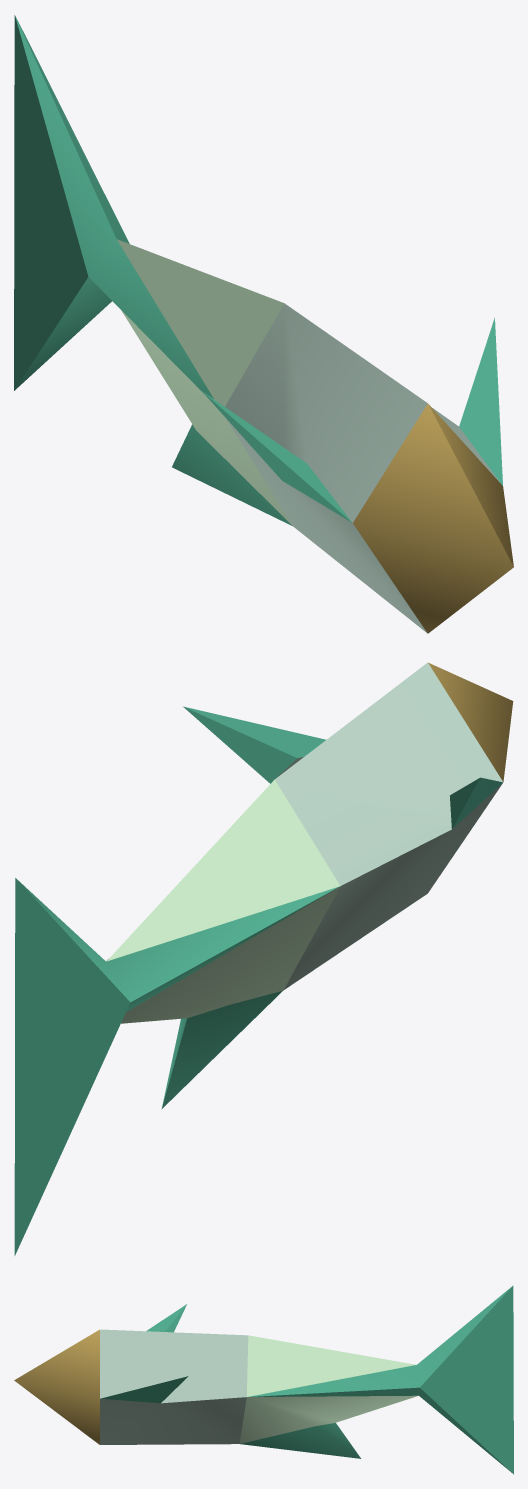
File: FishType_Long_1_2.fbx
The picture shows the model from 3 angles, top to bottom: view 1: azimuth 30°, elevation 25°; view 2: azimuth 150°, elevation 25°; view 3: azimuth 270°, elevation 25°; orthographic projection. The views are drawn at different scales.
Parts seen in each view (by area): view 1: FishType_Long_1; view 2: FishType_Long_1; view 3: FishType_Long_1.
Part boxes in pixels (bbox=[...]): FishType_Long_1: bbox=[14, 15, 513, 633]; FishType_Long_1: bbox=[14, 662, 513, 1255]; FishType_Long_1: bbox=[14, 1286, 513, 1474].
Bounding box in the file's own units: 0.8788 × 1.07 × 2.57.
1 material, 1 textured.
